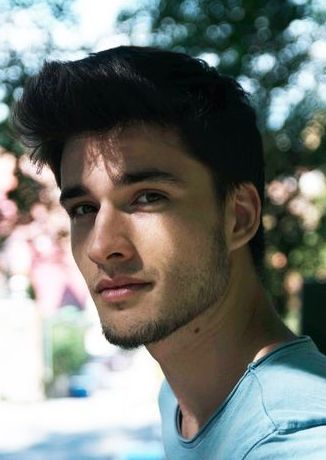bare: (68, 228, 218, 348)
